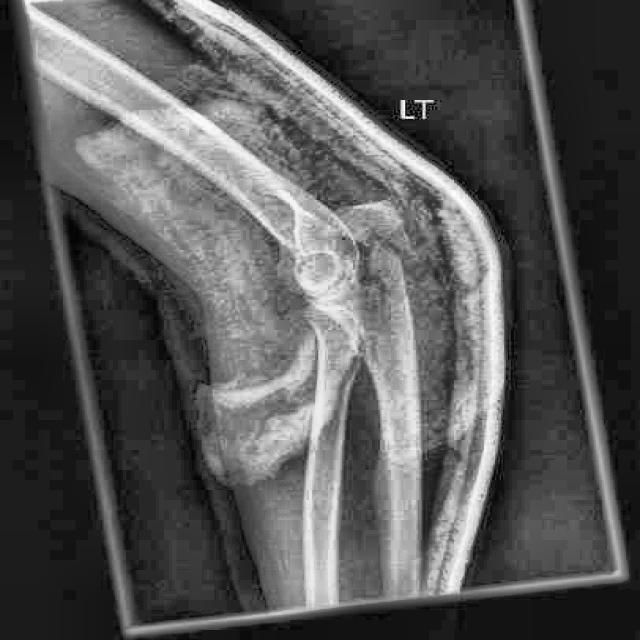elbow positive: (350, 212, 439, 318)
